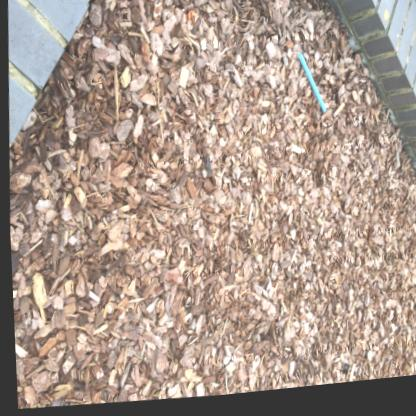Metal: (338, 370, 346, 382), (361, 358, 367, 368)
Plastic: (296, 60, 324, 120)
